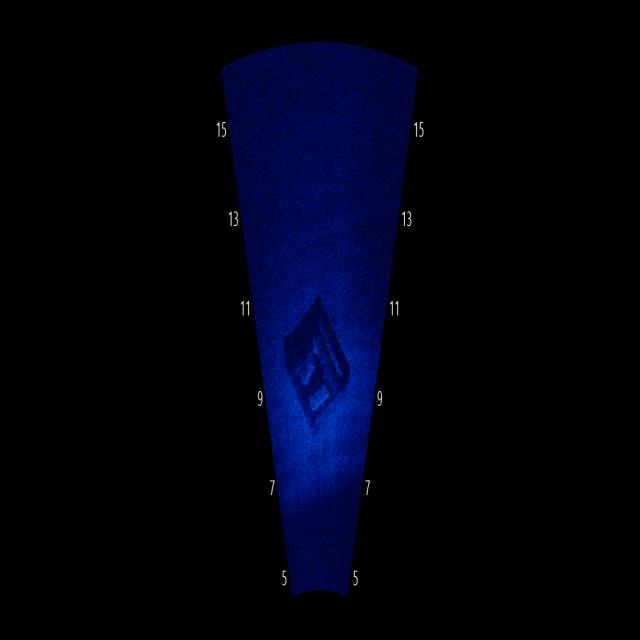square: (272, 294, 363, 442)
